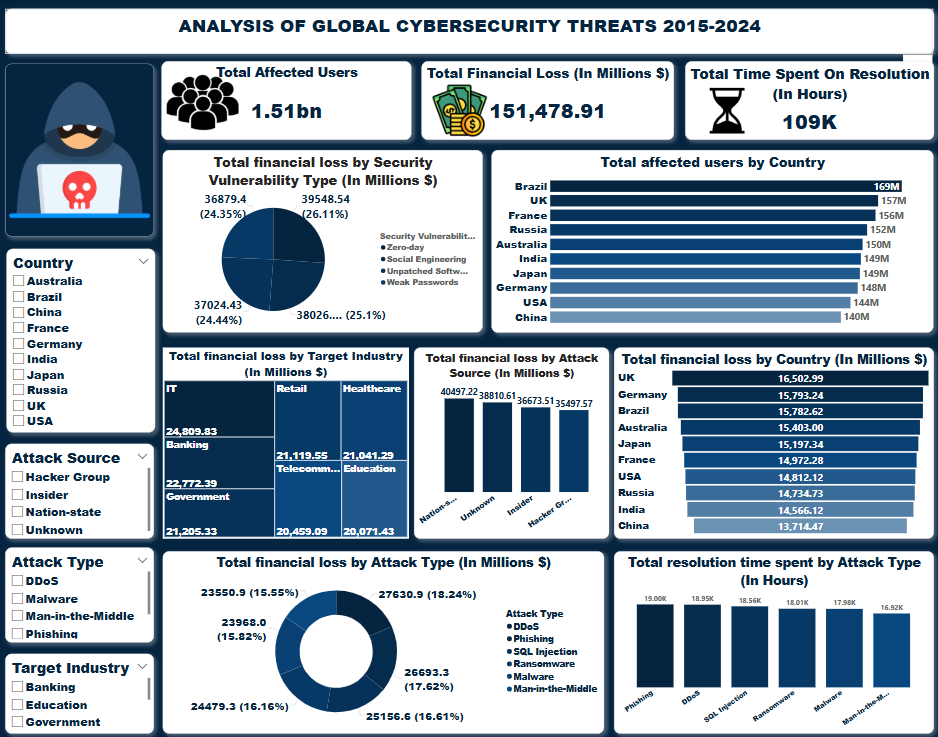

Layout of this report page (visuals, bound fields, positions):
{"tool":"powerbi","page":{"name":"Dashboard","canvas":[2900,2300],"ordinal":1},"visuals":[{"type":"textbox","box":[17.8,28.5,2864,139.1],"z":0},{"type":"image","box":[19.3,196.5,458.6,531.8],"z":1000},{"type":"card","title":"Total Affected Users","fields":{"Values":["Global_Cybersecurity_Threats_2015-2024.Total affected users"]},"box":[501,188.8,770.8,242.8],"z":2000},{"type":"card","title":"Total Financial Loss (In Millions $)","fields":{"Values":["Global_Cybersecurity_Threats_2015-2024.Total financial loss"]},"box":[1302.6,188.8,778.5,242.8],"z":3000},{"type":"card","title":"Total Time Spent On Resolution (In Hours)","fields":{"Values":["Global_Cybersecurity_Threats_2015-2024.Total resolution time spent"]},"box":[2115.8,188.8,766.9,242.8],"z":4000},{"type":"clusteredBarChart","fields":{"Category":["Global_Cybersecurity_Threats_2015-2024.Country"],"Y":["Global_Cybersecurity_Threats_2015-2024.Total affected users"]},"box":[1519.4,463.7,1362.4,563.5],"z":5000},{"type":"donutChart","title":"Total financial loss by Attack Type (In Millions $)","fields":{"Category":["Global_Cybersecurity_Threats_2015-2024.Attack Type"],"Y":["Global_Cybersecurity_Threats_2015-2024.Total financial loss"]},"box":[504.9,1699.6,1360.4,562.7],"z":6000},{"type":"clusteredColumnChart","title":"Total resolution time spent by Attack Type (In Hours)","fields":{"Y":["Global_Cybersecurity_Threats_2015-2024.Total resolution time spent"],"Category":["Global_Cybersecurity_Threats_2015-2024.Attack Type"]},"box":[1896.1,1699.6,986.6,562.7],"z":7000},{"type":"treemap","title":"Total financial loss by Target Industry (In Millions $)","fields":{"Group":["Global_Cybersecurity_Threats_2015-2024.Target Industry"],"Values":["Global_Cybersecurity_Threats_2015-2024.Total financial loss"]},"box":[504.9,1071.4,759.2,589.6],"z":8000},{"type":"funnel","title":"Total financial loss by Country (In Millions $)","fields":{"Category":["Global_Cybersecurity_Threats_2015-2024.Country"],"Y":["Global_Cybersecurity_Threats_2015-2024.Total financial loss"]},"box":[1896.1,1071.4,986.6,589.6],"z":9000},{"type":"slicer","fields":{"Values":["Global_Cybersecurity_Threats_2015-2024.Country"]},"box":[23.1,766.9,458.6,566.5],"z":10000},{"type":"slicer","fields":{"Values":["Global_Cybersecurity_Threats_2015-2024.Attack Source"]},"box":[19.3,1368.1,458.6,292.9],"z":11000},{"type":"pieChart","title":"Total financial loss by Security Vulnerability Type (In Millions $)","fields":{"Category":["Global_Cybersecurity_Threats_2015-2024.Security Vulnerability Type"],"Y":["Global_Cybersecurity_Threats_2015-2024.Total financial loss"]},"box":[504.9,462.5,986.6,562.7],"z":12000},{"type":"clusteredColumnChart","title":"Total financial loss by Attack Source (In Millions $)","fields":{"Y":["Global_Cybersecurity_Threats_2015-2024.Total financial loss"],"Category":["Global_Cybersecurity_Threats_2015-2024.Attack Source"]},"box":[1279.5,1071.4,601.2,589.6],"z":13000},{"type":"image","box":[1321.9,250.5,196.5,181.1],"z":14000},{"type":"image","box":[2169.7,219.7,150.3,242.8],"z":15000},{"type":"slicer","fields":{"Values":["Global_Cybersecurity_Threats_2015-2024.Target Industry"]},"box":[19.3,2015.6,458.6,246.7],"z":16000},{"type":"slicer","fields":{"Values":["Global_Cybersecurity_Threats_2015-2024.Attack Type"]},"box":[19.3,1688,458.6,292.9],"z":17000},{"type":"image","box":[501,200.4,254.4,231.2],"z":18000}]}

Visuals, with their boxes in screenshot pixels (x1, y1, x2, y2), scaled from the page's 2900x2300 canvas onto the 938x737 screenshot:
textbox: bbox=(6, 9, 932, 54)
image: bbox=(6, 63, 155, 233)
"Total Affected Users" card: bbox=(162, 60, 411, 138)
"Total Financial Loss (In Millions $)" card: bbox=(421, 60, 673, 138)
"Total Time Spent On Resolution (In Hours)" card: bbox=(684, 60, 932, 138)
clusteredBarChart - Global_Cybersecurity_Threats_2015-2024.Country x Global_Cybersecurity_Threats_2015-2024.Total affected users: bbox=(491, 149, 932, 329)
"Total financial loss by Attack Type (In Millions $)" donutChart: bbox=(163, 545, 603, 725)
"Total resolution time spent by Attack Type (In Hours)" clusteredColumnChart: bbox=(613, 545, 932, 725)
"Total financial loss by Target Industry (In Millions $)" treemap: bbox=(163, 343, 409, 532)
"Total financial loss by Country (In Millions $)" funnel: bbox=(613, 343, 932, 532)
slicer - Global_Cybersecurity_Threats_2015-2024.Country: bbox=(7, 246, 156, 427)
slicer - Global_Cybersecurity_Threats_2015-2024.Attack Source: bbox=(6, 438, 155, 532)
"Total financial loss by Security Vulnerability Type (In Millions $)" pieChart: bbox=(163, 148, 482, 329)
"Total financial loss by Attack Source (In Millions $)" clusteredColumnChart: bbox=(414, 343, 608, 532)
image: bbox=(428, 80, 491, 138)
image: bbox=(702, 70, 750, 148)
slicer - Global_Cybersecurity_Threats_2015-2024.Target Industry: bbox=(6, 646, 155, 725)
slicer - Global_Cybersecurity_Threats_2015-2024.Attack Type: bbox=(6, 541, 155, 635)
image: bbox=(162, 64, 244, 138)
